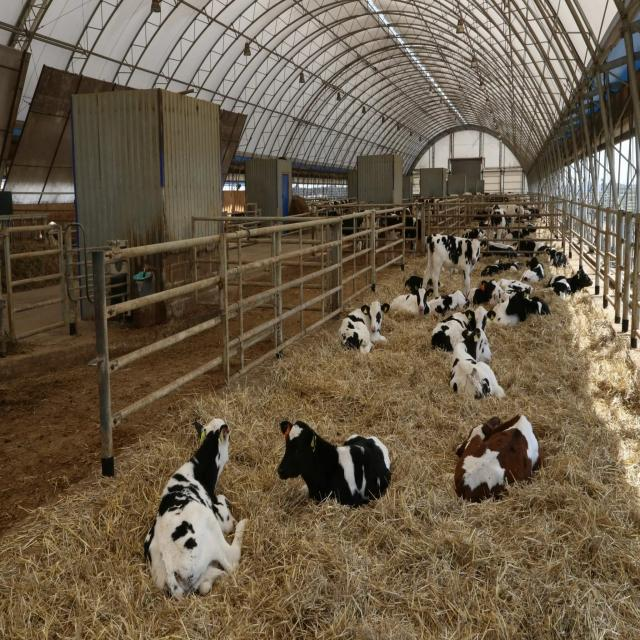cow: (143, 417, 248, 601), (277, 418, 391, 506), (453, 412, 542, 504), (421, 232, 482, 300), (448, 329, 506, 400), (338, 300, 389, 354)
